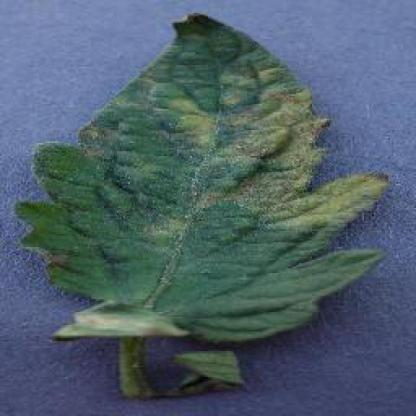Tomato_Leaf_Mold: (18, 12, 391, 312)
